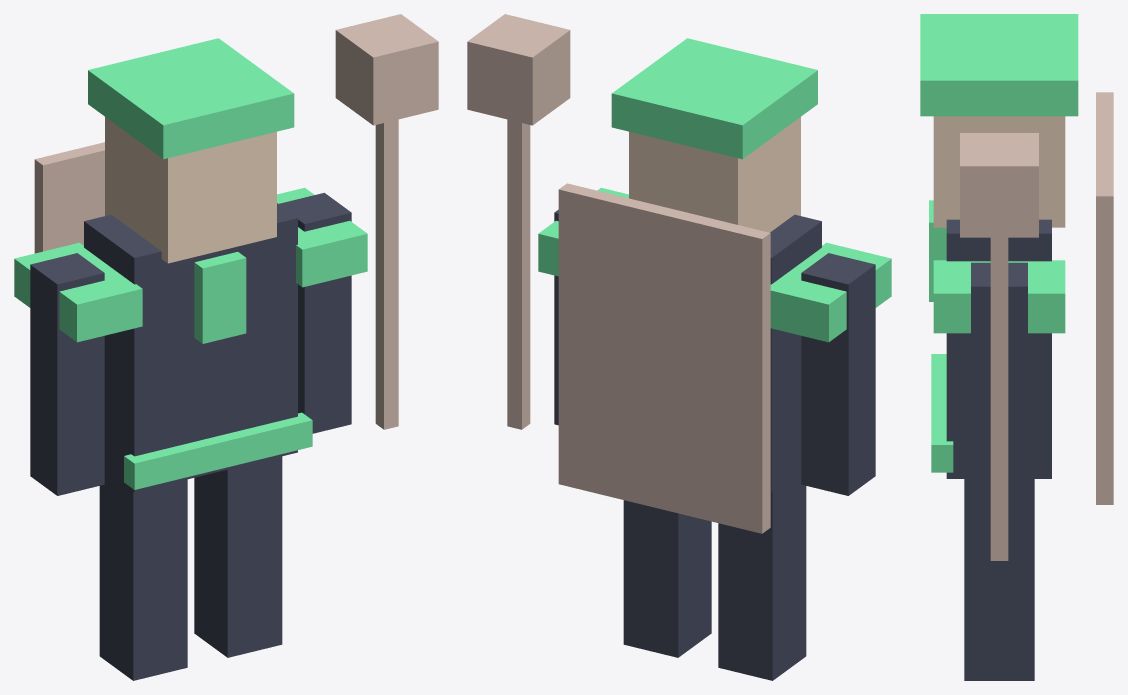
The model's file is 14_yara_trenchmark_marshal_at_service.glb.
The picture shows the model from 3 angles, left to right: view 1: azimuth 30°, elevation 25°; view 2: azimuth 150°, elevation 25°; view 3: azimuth 270°, elevation 25°; orthographic projection. The views are drawn at different scales.
Visible parts, largest first — view 1: Yara Trenchmark, Marshal at Service; view 2: Yara Trenchmark, Marshal at Service; view 3: Yara Trenchmark, Marshal at Service.
Boxes of the visible parts, left/top/right/bottom form: Yara Trenchmark, Marshal at Service: left=14, top=14, right=438, bottom=680; Yara Trenchmark, Marshal at Service: left=467, top=14, right=891, bottom=680; Yara Trenchmark, Marshal at Service: left=920, top=14, right=1113, bottom=680.
Size of the model in its own units: 1.08 by 1.56 by 0.4585.
